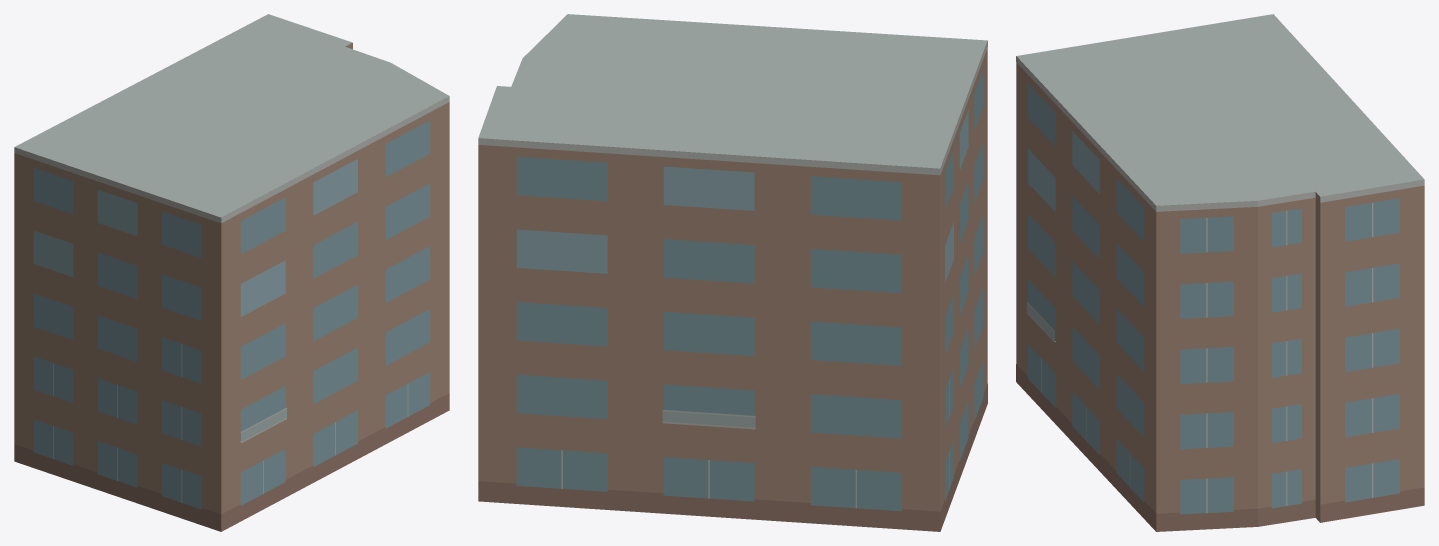
Rendered from survey-upis-32585417.glb.
The picture shows the model from 3 angles, left to right: view 1: azimuth 30°, elevation 25°; view 2: azimuth 150°, elevation 25°; view 3: azimuth 270°, elevation 25°; orthographic projection. The views are drawn at different scales.
Parts seen in each view (by area): view 1: survey-upis-32585417.tmp; view 2: survey-upis-32585417.tmp; view 3: survey-upis-32585417.tmp.
Boxes of the visible parts, x1=… form: survey-upis-32585417.tmp: x1=14, y1=14, x2=449, y2=531; survey-upis-32585417.tmp: x1=478, y1=14, x2=987, y2=531; survey-upis-32585417.tmp: x1=1016, y1=14, x2=1424, y2=531.
Size of the model in its own units: 16.67 by 13.2 by 15.
